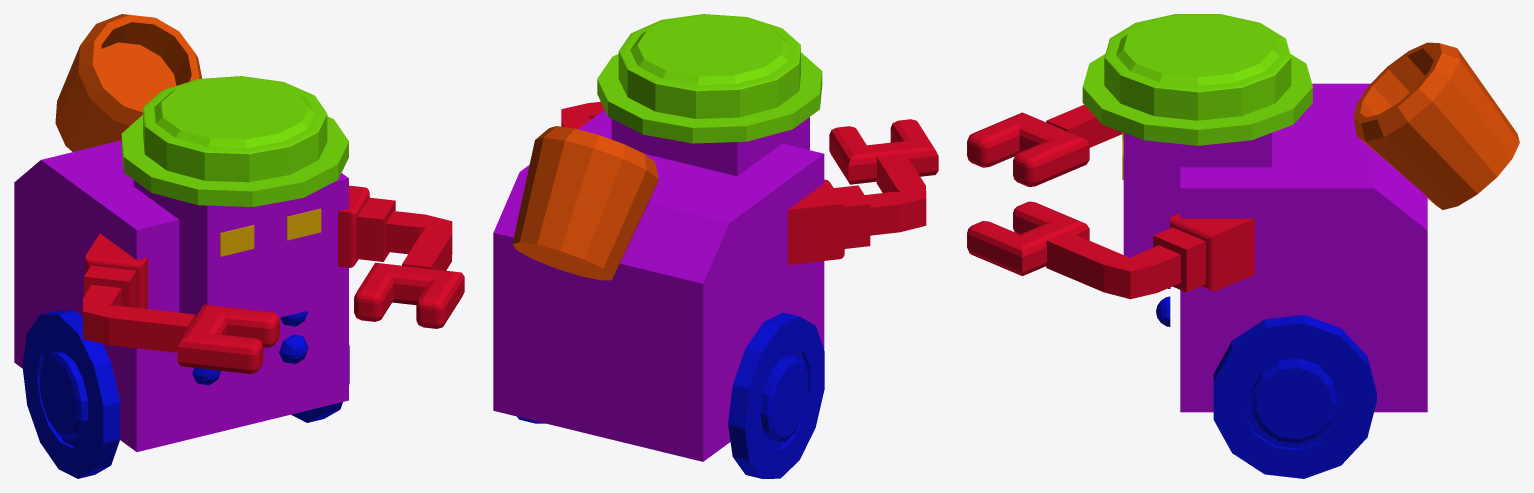
File: Robot.fbx
3 views of the same model, side by side, from view 1: azimuth 30°, elevation 25°; view 2: azimuth 150°, elevation 25°; view 3: azimuth 270°, elevation 25° (orthographic). The views are drawn at different scales.
Parts seen in each view (by area): view 1: Cube.001; view 2: Cube.001; view 3: Cube.001.
Part boxes in pixels (<box>): Cube.001: <box>14,14,464,478</box>; Cube.001: <box>493,14,938,478</box>; Cube.001: <box>967,14,1519,478</box>.
Size of the model in its own units: 348 by 333 by 447.
